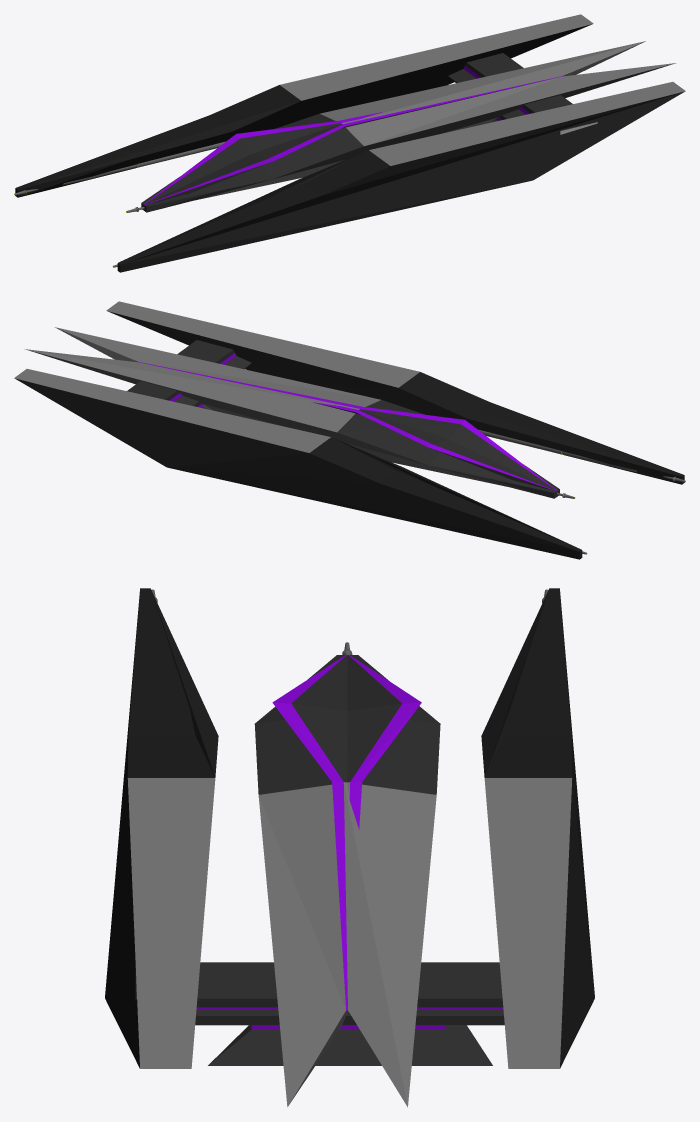
File: mdl_player.fbx
3 renders of one model, top to bottom at view 1: azimuth 30°, elevation 25°; view 2: azimuth 150°, elevation 25°; view 3: azimuth 270°, elevation 25°, orthographic. The views are drawn at different scales.
Visible parts, largest first — view 1: pCube15; view 2: pCube15; view 3: pCube15.
Part boxes in pixels (x1,y1,x2,y2): pCube15: (14, 14, 685, 272); pCube15: (14, 301, 685, 559); pCube15: (105, 588, 594, 1107).
Bounding box in the file's own units: 47.53 × 3.37 × 16.87.
